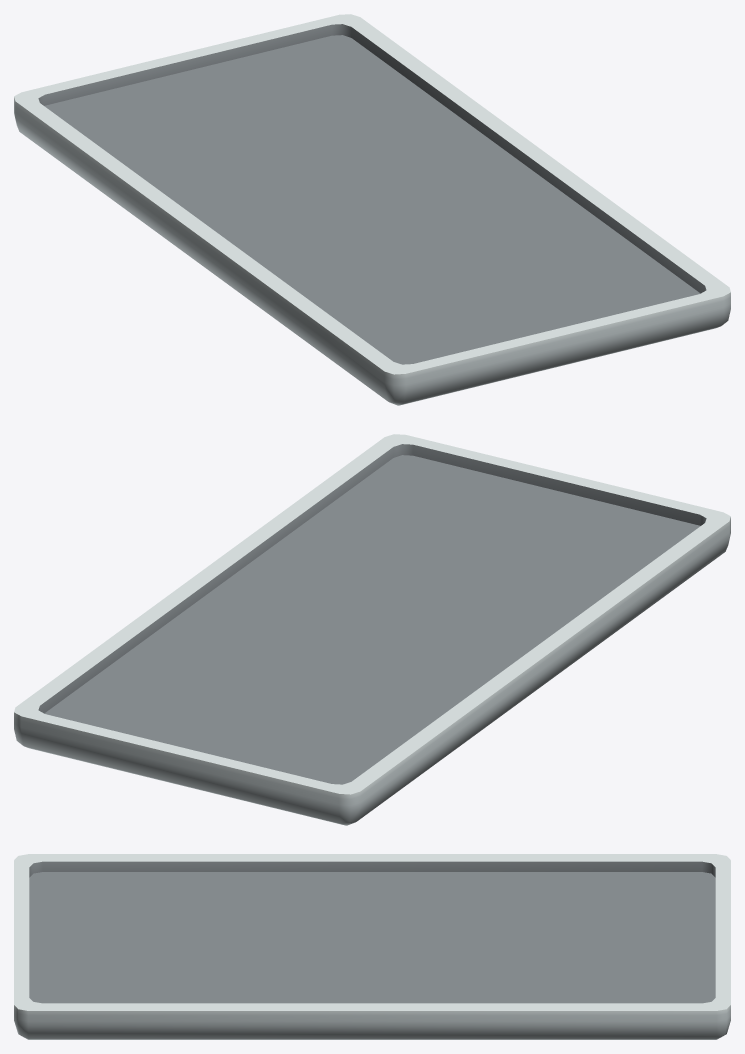
Rendered from StonePlacement.fbx.
The picture shows the model from 3 angles, top to bottom: view 1: azimuth 30°, elevation 25°; view 2: azimuth 150°, elevation 25°; view 3: azimuth 270°, elevation 25°; orthographic projection. The views are drawn at different scales.
Parts seen in each view (by area): view 1: StonePlacement; view 2: StonePlacement; view 3: StonePlacement.
Boxes of the visible parts, x1=… form: StonePlacement: x1=14, y1=14, x2=730, y2=405; StonePlacement: x1=14, y1=434, x2=730, y2=825; StonePlacement: x1=14, y1=854, x2=730, y2=1039.
Bounding box in the file's own units: 0.9903 × 0.1032 × 1.91.
